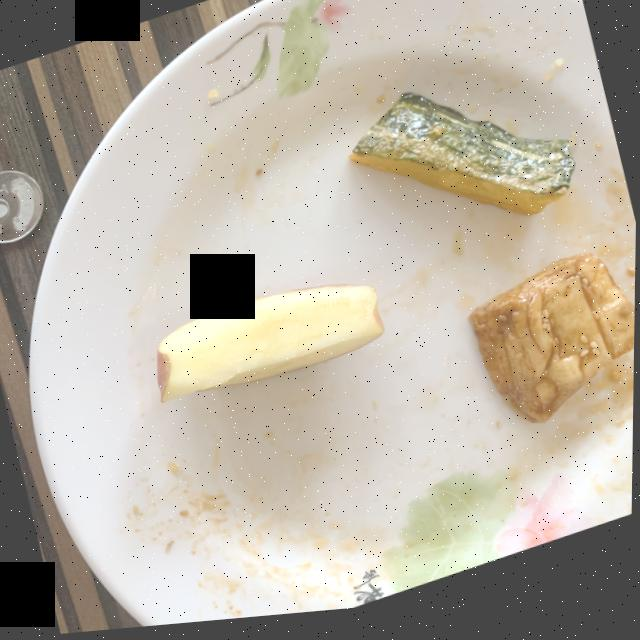apple -sliced-: (157, 290, 385, 405)
coin: (0, 171, 44, 243)
creamy tofu: (470, 264, 636, 433)
pumpkin: (349, 100, 575, 225)
